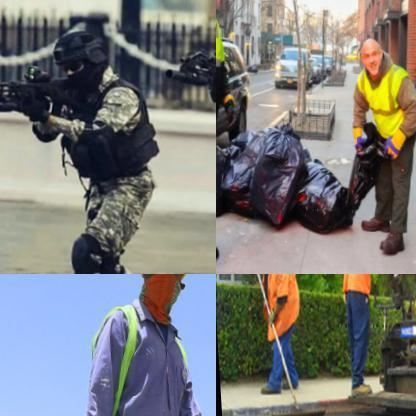vest: (68, 296, 200, 415), (53, 81, 166, 193), (347, 73, 415, 154), (252, 274, 304, 339), (339, 274, 378, 300)
